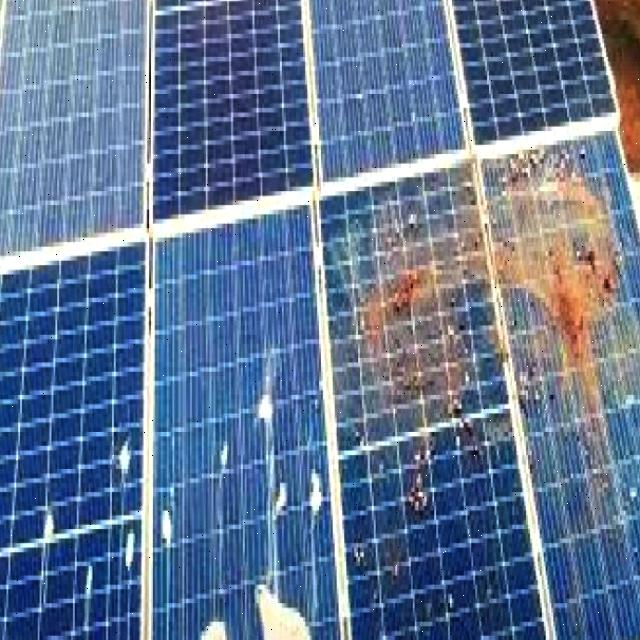Anomaly Solar Panel: (311, 119, 640, 640)
Surface Contaminant: (478, 131, 640, 640), (322, 162, 516, 527), (379, 516, 414, 591), (349, 535, 371, 578)
